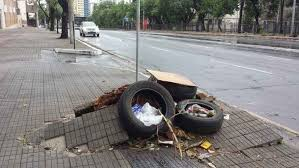tire: (117, 81, 175, 143), (172, 99, 225, 135)
